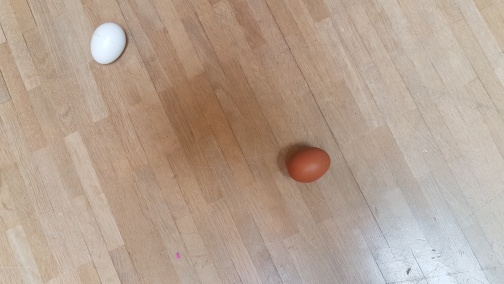egg: (88, 20, 128, 65), (285, 146, 332, 184)
